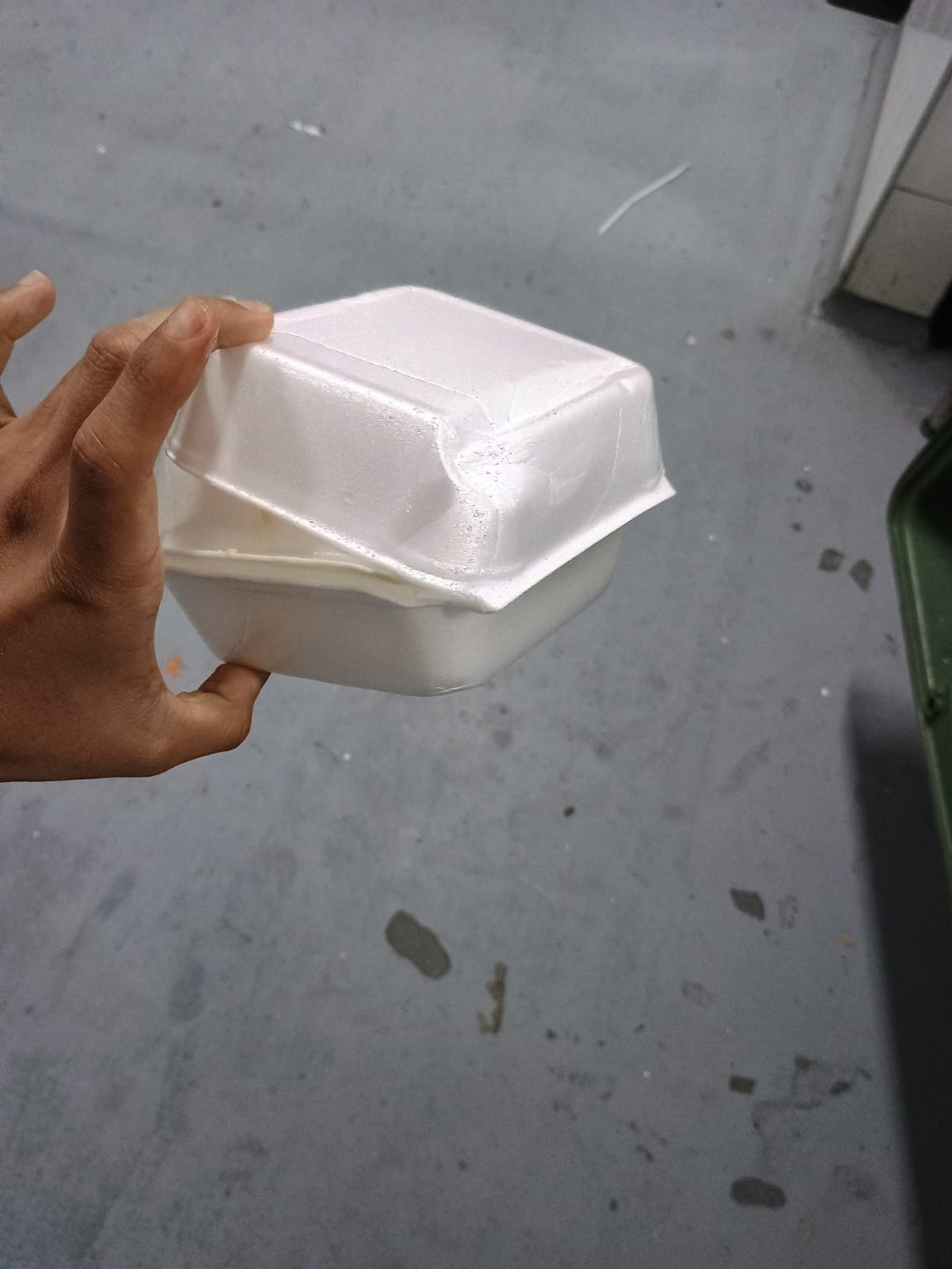Ordinario: (152, 281, 682, 694)
